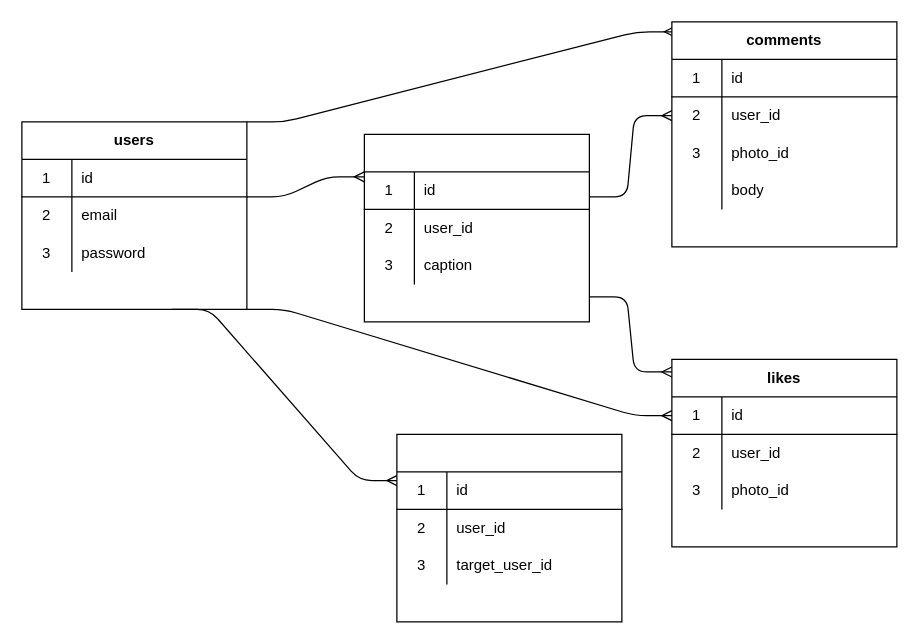
This 919x644 diagram has some shape labels left out. The shapes that lost their labels are listed below. From the top down, each one's box as (x1, y1, x2, y2) in pixels, then its label:
(363, 133, 589, 322): photos
(396, 433, 622, 622): follows
